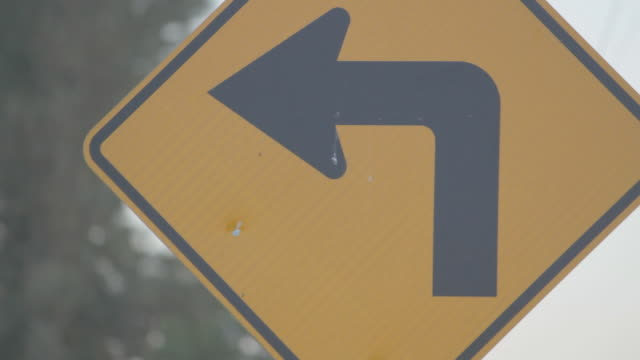left: (83, 1, 640, 358)
